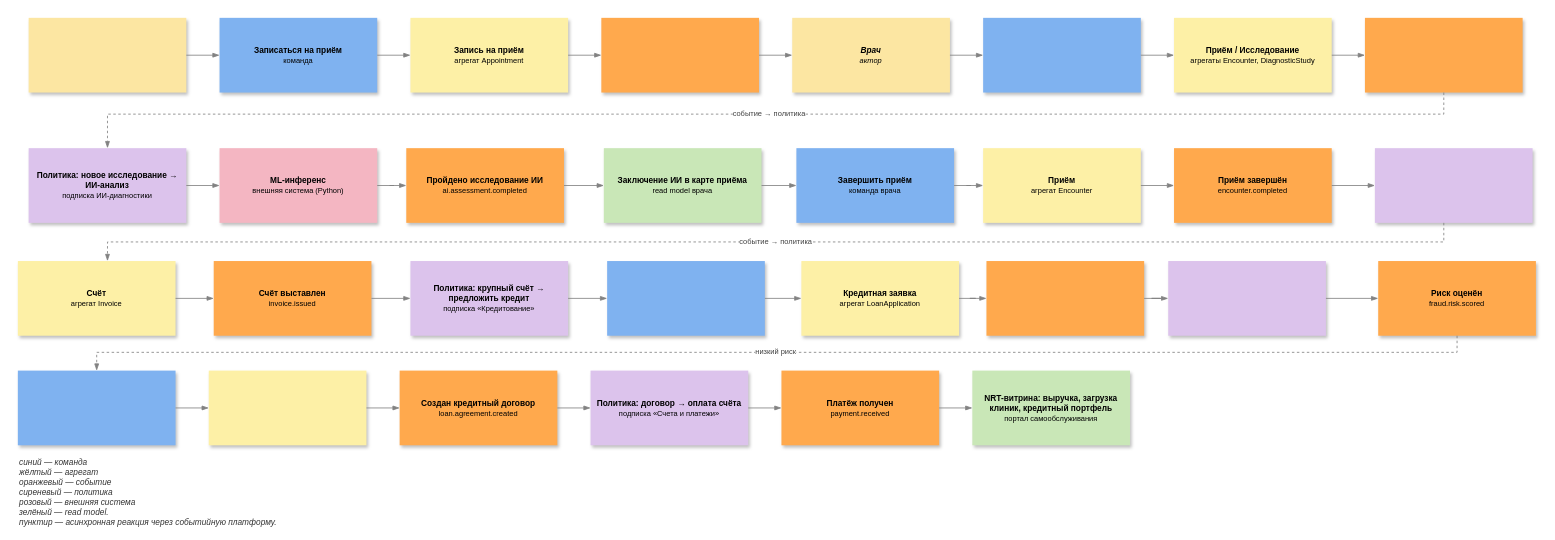
This 1555x540 diagram has some shape labels left out. The shapes that lost their labels are listed below. From the top down, each one's centre as x and y in pixels, then its label:
At (x=108, y=56): "Пациент актор".
At (x=681, y=56): "Создана запись на приём appointment.scheduled".
At (x=1062, y=56): "Провести приём, назначить исследование команда".
At (x=1444, y=56): "Назначено исследование study.ordered".
At (x=1454, y=186): "Политика: приём завершён → выставить счёт подписка «Счета и платежи»".
At (x=686, y=299): "Подать кредитную заявку команда пациента".
At (x=1066, y=299): "Кредитная заявка подана loan.application.submitted".
At (x=1247, y=299): "Политика: заявка → оценка риска подписка «Антифрод»".
At (x=97, y=409): "Одобрить и оформить договор команда (авто при низком риске)".
At (x=288, y=409): "Кредитный договор агрегат LoanAgreement".
